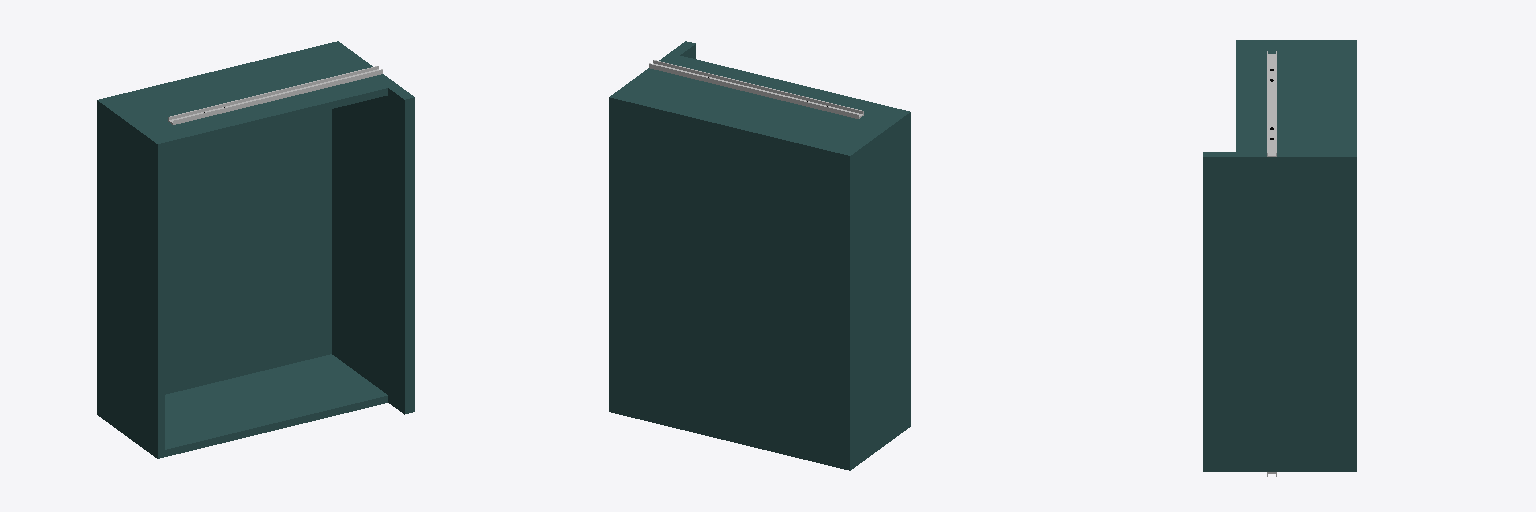
File: drawer.obj
3 views of the same model, side by side, from view 1: azimuth 30°, elevation 25°; view 2: azimuth 150°, elevation 25°; view 3: azimuth 270°, elevation 25° (orthographic).
Visible parts, largest first — view 1: drawer, drawer_hinge_right; view 2: drawer, drawer_hinge_right; view 3: drawer, drawer_hinge_right.
Boxes of the visible parts, <box> form: drawer: <box>97,41,414,458</box>; drawer_hinge_right: <box>168,66,382,124</box>; drawer: <box>609,41,910,470</box>; drawer_hinge_right: <box>649,60,863,118</box>; drawer: <box>1203,40,1356,471</box>; drawer_hinge_right: <box>1267,51,1276,156</box>.
Size of the model in its own units: 0.345 by 0.4423 by 0.19.